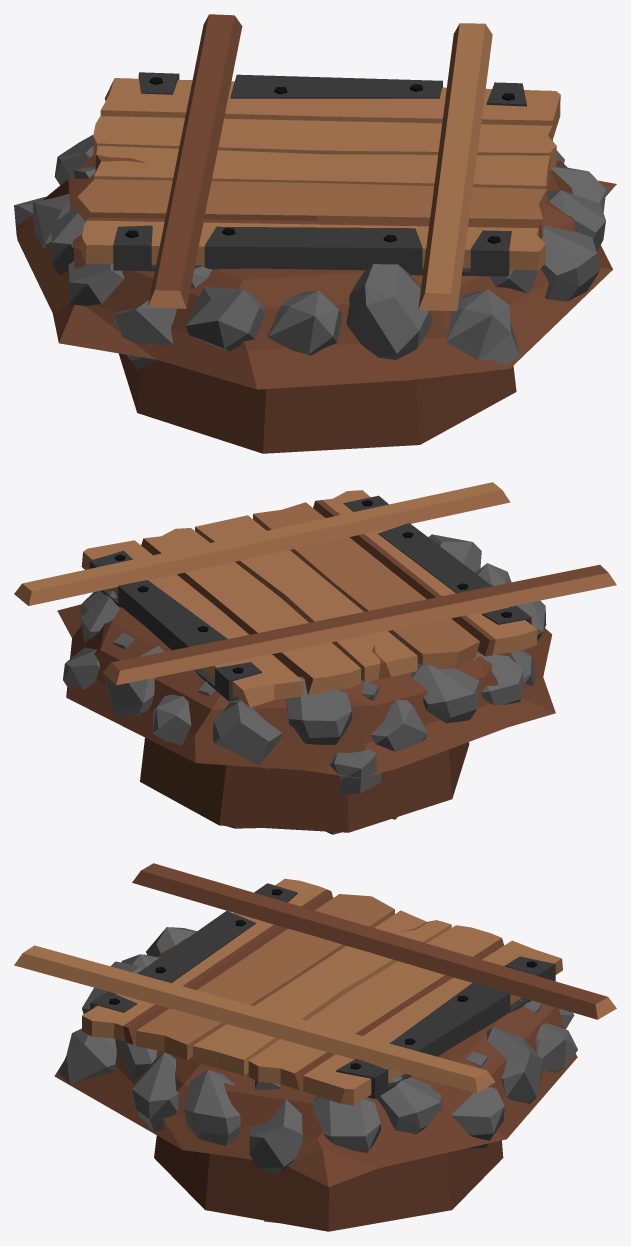
Rendered from coalmaker_1.fbx.
3 renders of one model, top to bottom at view 1: azimuth 30°, elevation 25°; view 2: azimuth 150°, elevation 25°; view 3: azimuth 270°, elevation 25°, orthographic. The views are drawn at different scales.
Visible parts, largest first — view 1: cover, pit; view 2: cover, pit; view 3: cover, pit.
Part boxes in pixels (box(x1,y1,x2,y2)): cover: box(77, 14, 560, 310); pit: box(14, 135, 616, 453); cover: box(14, 482, 616, 707); pit: box(57, 534, 555, 832); cover: box(14, 863, 616, 1105); pit: box(54, 927, 577, 1231).
Size of the model in its own units: 1.17 by 0.4807 by 1.24.
